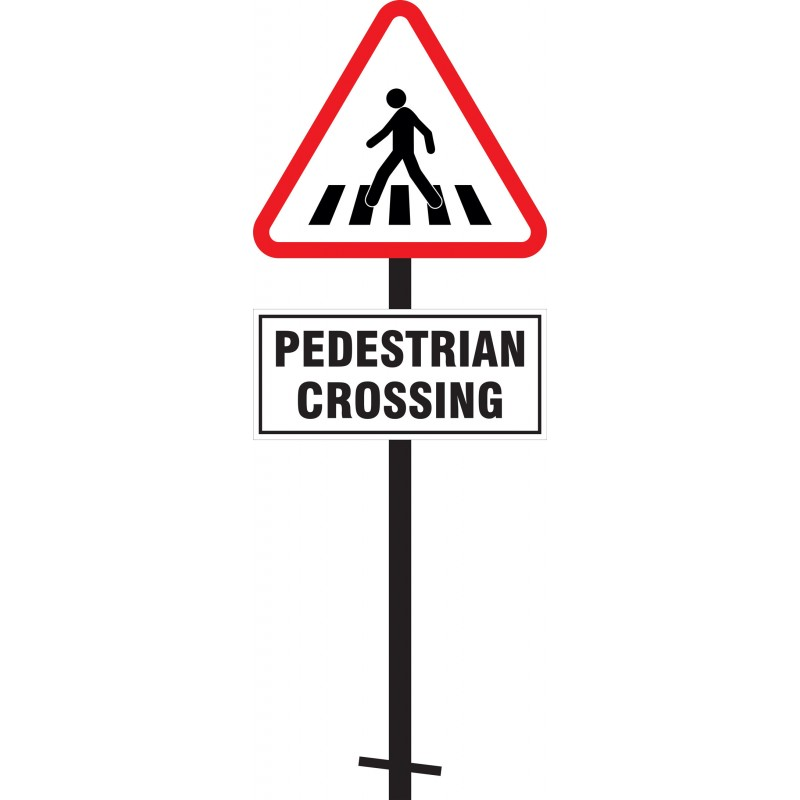CrossSign: (231, 1, 578, 263)
